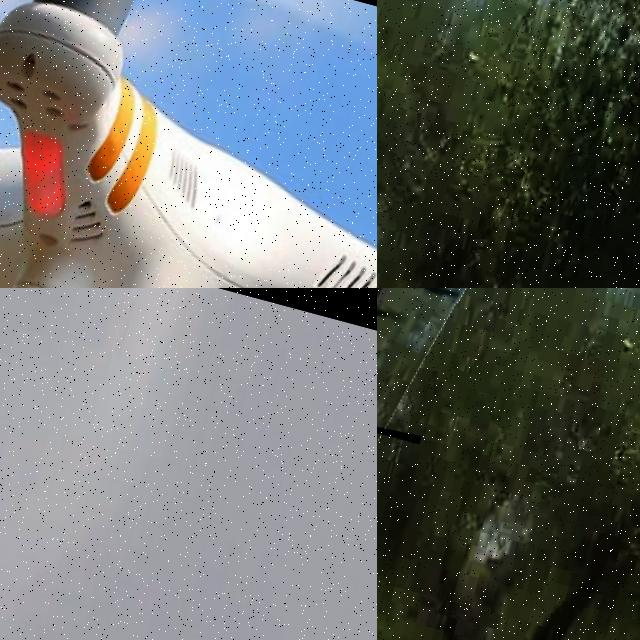0: (377, 288, 477, 444)
drone: (0, 0, 377, 288)
